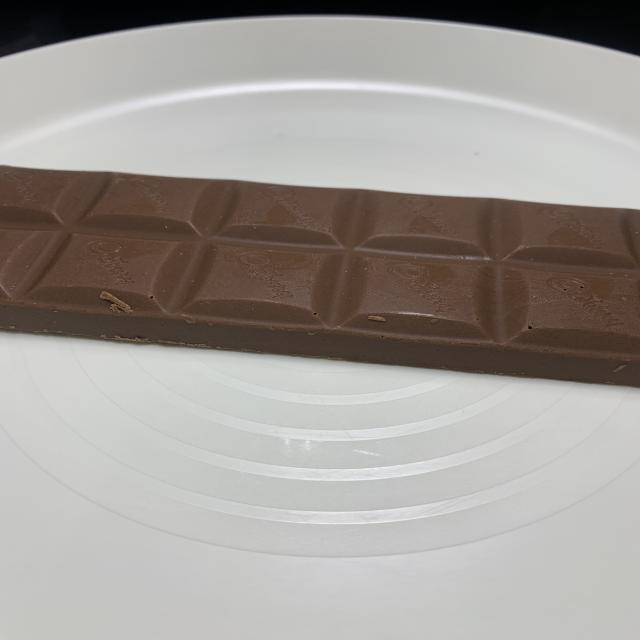chocolate: (0, 164, 640, 392)
